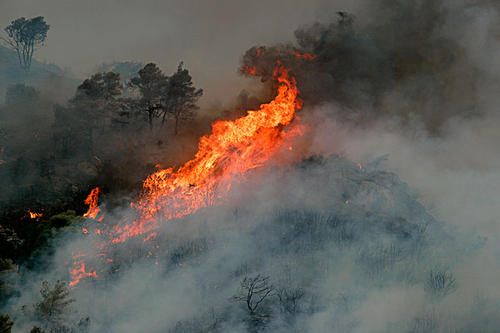fire: (115, 76, 298, 239), (82, 189, 103, 215)
